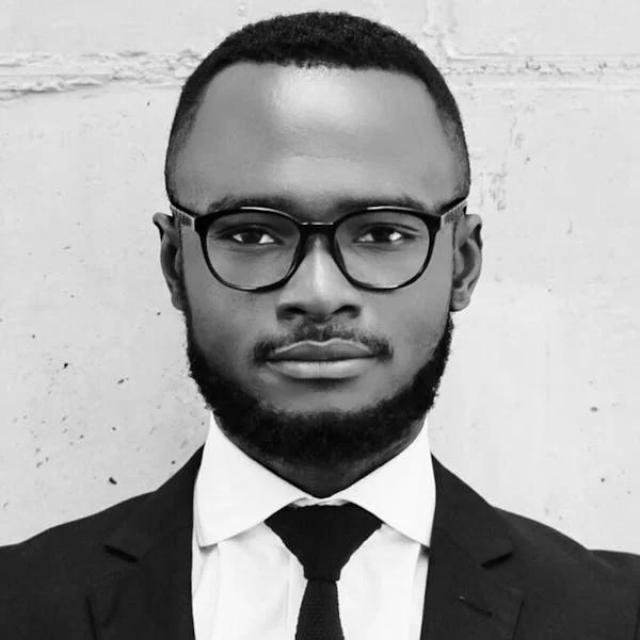no_mask: (154, 28, 463, 465)
